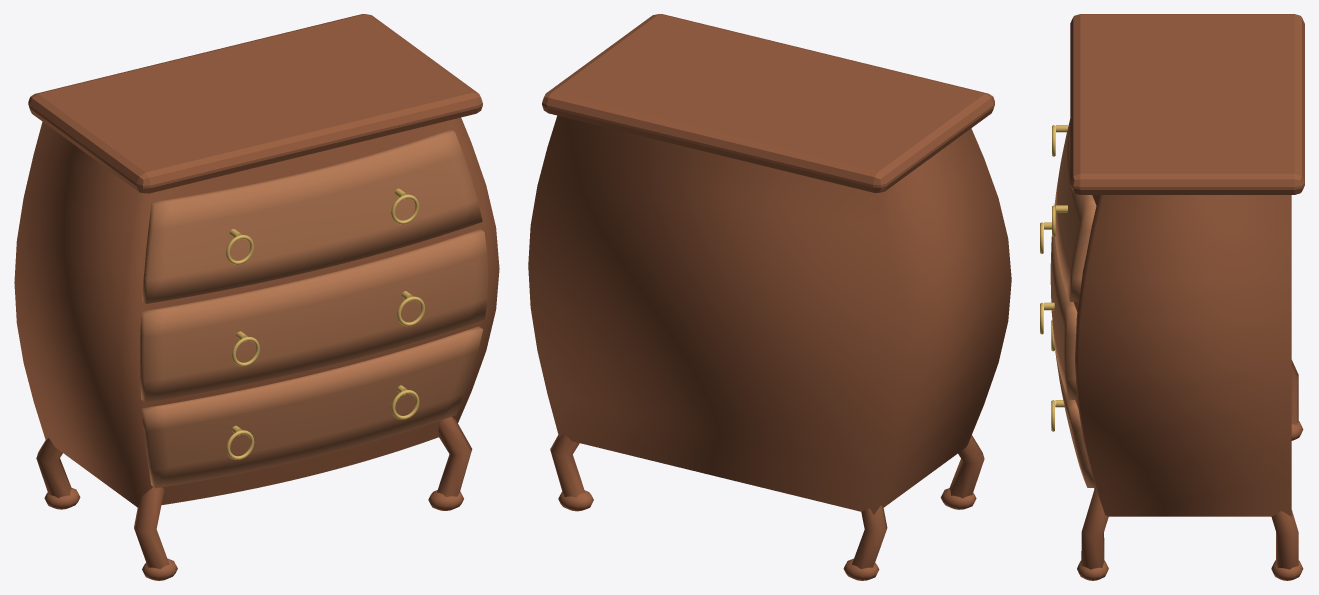
Rendered from dresser_bombe.glb.
3 renders of one model, left to right at view 1: azimuth 30°, elevation 25°; view 2: azimuth 150°, elevation 25°; view 3: azimuth 270°, elevation 25°, orthographic.
Visible parts, largest first — view 1: Bulging bombe chest closed body, Bombe chest overhanging top, Curved bombe drawer 3, Curved bombe drawer 2, Curved bombe drawer 1, Bombe curved cabriole foot.002, Bombe curved cabriole foot, Bombe curved cabriole foot.001; view 2: Bulging bombe chest closed body, Bombe chest overhanging top, Bombe curved cabriole foot.003, Bombe curved cabriole foot.001, Bombe curved cabriole foot; view 3: Bulging bombe chest closed body, Bombe chest overhanging top, Curved bombe drawer 3, Curved bombe drawer 2, Bombe curved cabriole foot.002, Bombe curved cabriole foot.003, Curved bombe drawer 1, Bombe curved cabriole foot.001, Bombe grounded foot.002, Bombe grounded foot.003.
Boxes of the visible parts, x1,y1,x2,y2 form: Bulging bombe chest closed body: (14,117,499,507); Bombe chest overhanging top: (28,14,482,193); Curved bombe drawer 3: (142,129,482,303); Curved bombe drawer 2: (140,229,488,402); Curved bombe drawer 1: (141,326,482,488); Bombe curved cabriole foot.002: (437,416,472,496); Bombe curved cabriole foot: (134,487,169,568); Bombe curved cabriole foot.001: (36,438,71,498); Bulging bombe chest closed body: (528,115,1011,514); Bombe chest overhanging top: (542,14,994,192); Bombe curved cabriole foot.003: (550,433,585,497); Bombe curved cabriole foot.001: (852,505,887,569); Bombe curved cabriole foot: (949,435,984,498); Bulging bombe chest closed body: (1073,195,1291,516); Bombe chest overhanging top: (1070,14,1304,194); Curved bombe drawer 3: (1054,119,1096,301); Curved bombe drawer 2: (1050,200,1077,399); Bombe curved cabriole foot.002: (1081,488,1108,569); Bombe curved cabriole foot.003: (1271,510,1298,569); Curved bombe drawer 1: (1055,349,1095,487); Bombe curved cabriole foot.001: (1291,360,1298,424); Bombe grounded foot.002: (1077,560,1108,580); Bombe grounded foot.003: (1271,560,1303,580).
Bounding box in the file's own units: 1.03 × 1.08 × 0.6262.
